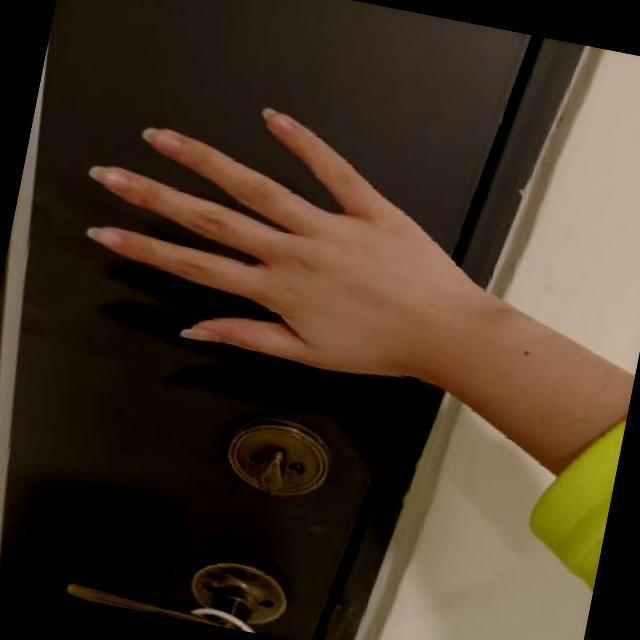hand: (20, 49, 558, 460)
